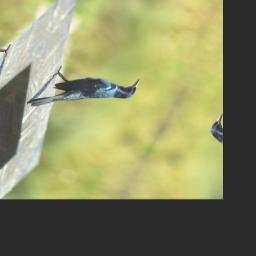Crow: (25, 46, 143, 141)
